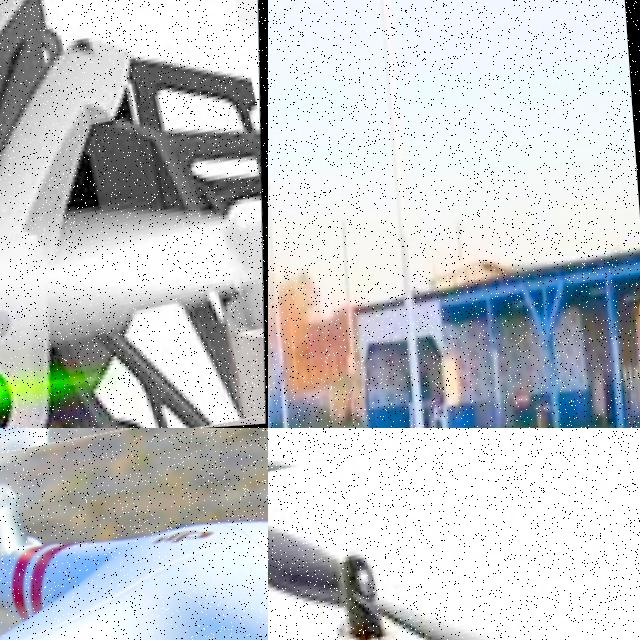drone: (0, 0, 268, 428), (268, 428, 640, 640), (0, 428, 268, 640)
